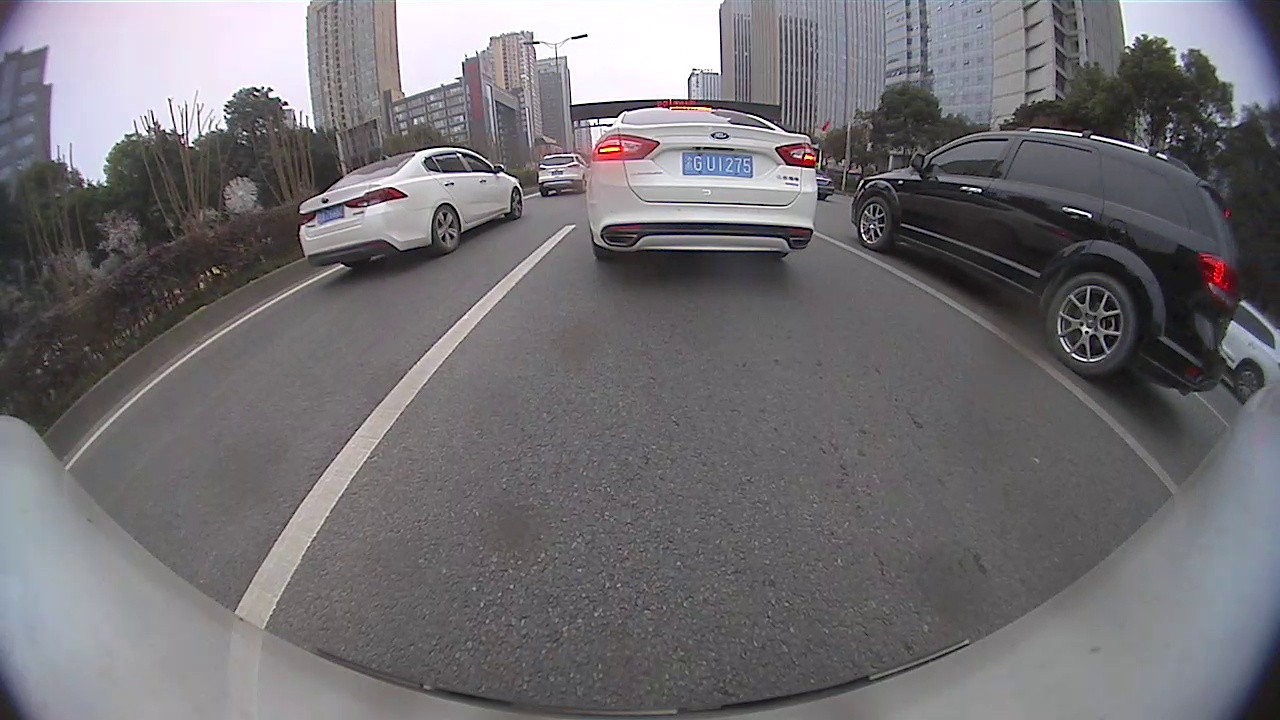car: (850, 125, 1242, 396), (587, 104, 818, 262), (299, 146, 526, 267), (1218, 298, 1279, 405), (537, 152, 592, 197)
front: (856, 201, 892, 251), (509, 186, 528, 222)
rear: (1042, 274, 1139, 378), (432, 204, 462, 253), (1236, 364, 1257, 394)
